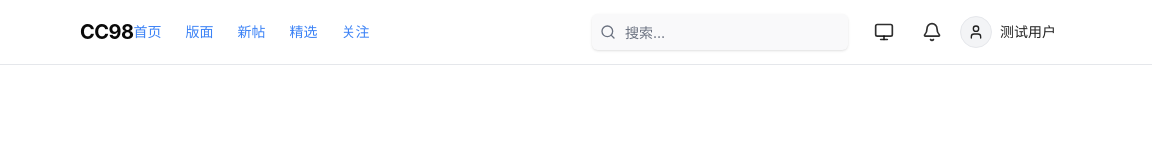
Test: 用户菜单与个人中心 › 用户名 hover 后一级菜单只展示 个人中心/签到/退出登录
Hover over the button "测试用户" at coordinates (1016, 32), box [960, 12, 1072, 52]
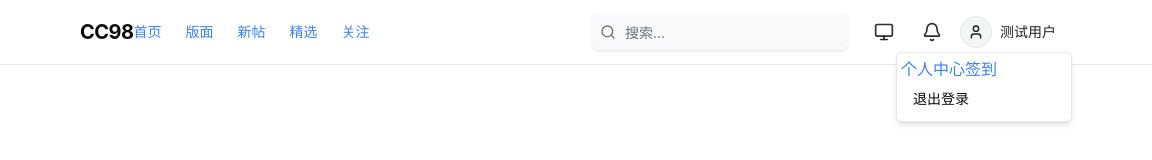
Check: the link "个人中心" is shown, box [901, 59, 965, 79]
Check: the link "签到" is shown, box [965, 59, 997, 79]
Check: the button "退出登录" is shown, box [901, 81, 1067, 117]
